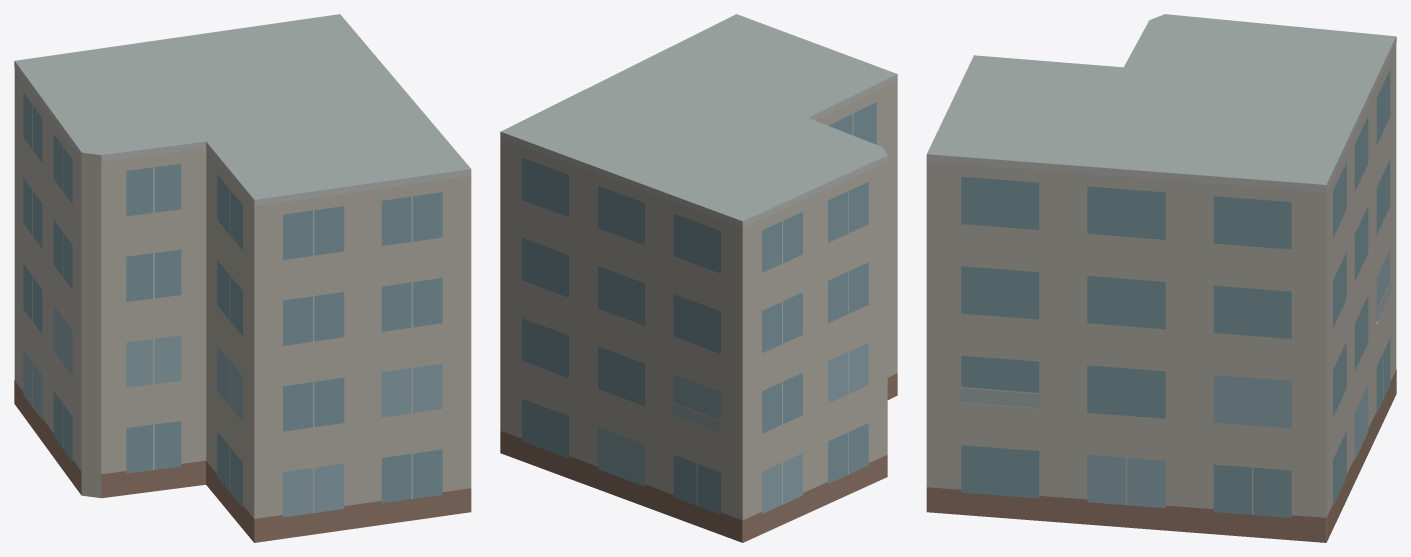
Rendered from survey-upis-32947141.glb.
The picture shows the model from 3 angles, left to right: view 1: azimuth 30°, elevation 25°; view 2: azimuth 150°, elevation 25°; view 3: azimuth 270°, elevation 25°; orthographic projection. The views are drawn at different scales.
Visible parts, largest first — view 1: survey-upis-32947141.tmp; view 2: survey-upis-32947141.tmp; view 3: survey-upis-32947141.tmp.
Boxes of the visible parts, box(x1,y1,x2,y2) form: survey-upis-32947141.tmp: box(14, 14, 471, 542); survey-upis-32947141.tmp: box(500, 14, 897, 542); survey-upis-32947141.tmp: box(926, 14, 1396, 542).
Size of the model in its own units: 13.02 by 12.7 by 15.12.
